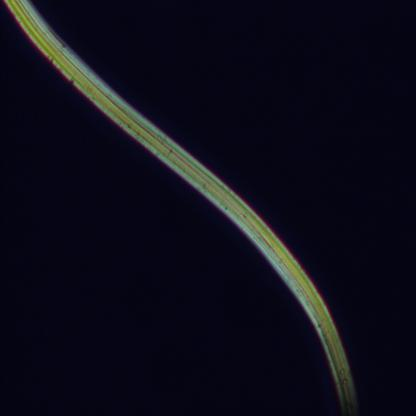Microfibre: (4, 1, 358, 415)
